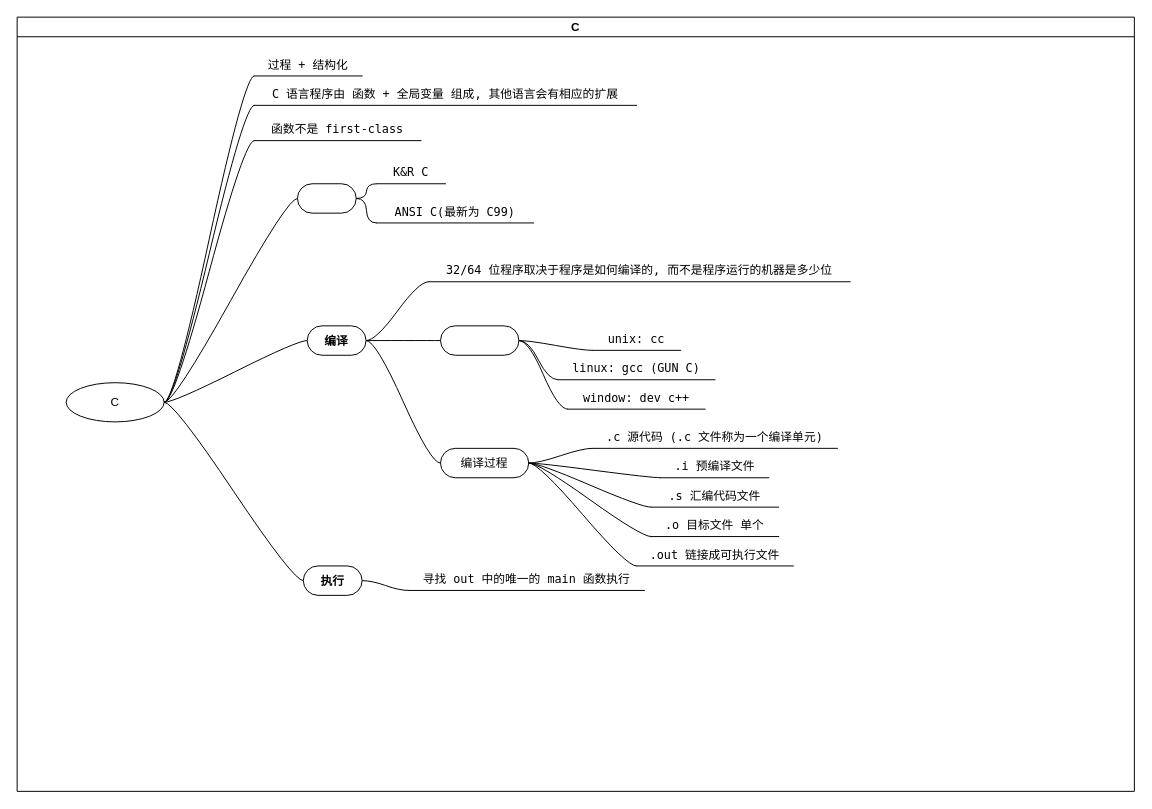
The diagram is 1152 pixels wide and 809 high, and some of its shapes have lost their labels. The box of each missing label's shape, as (x1, y1, x2, y2) in pixels:
标准: (296, 183, 356, 213)
编译器: (440, 325, 519, 355)
